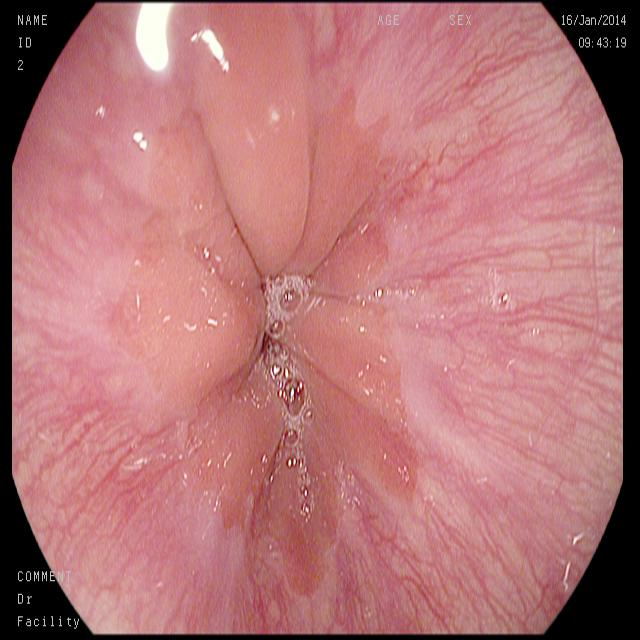Normal-Z-Line: (100, 1, 436, 609)
